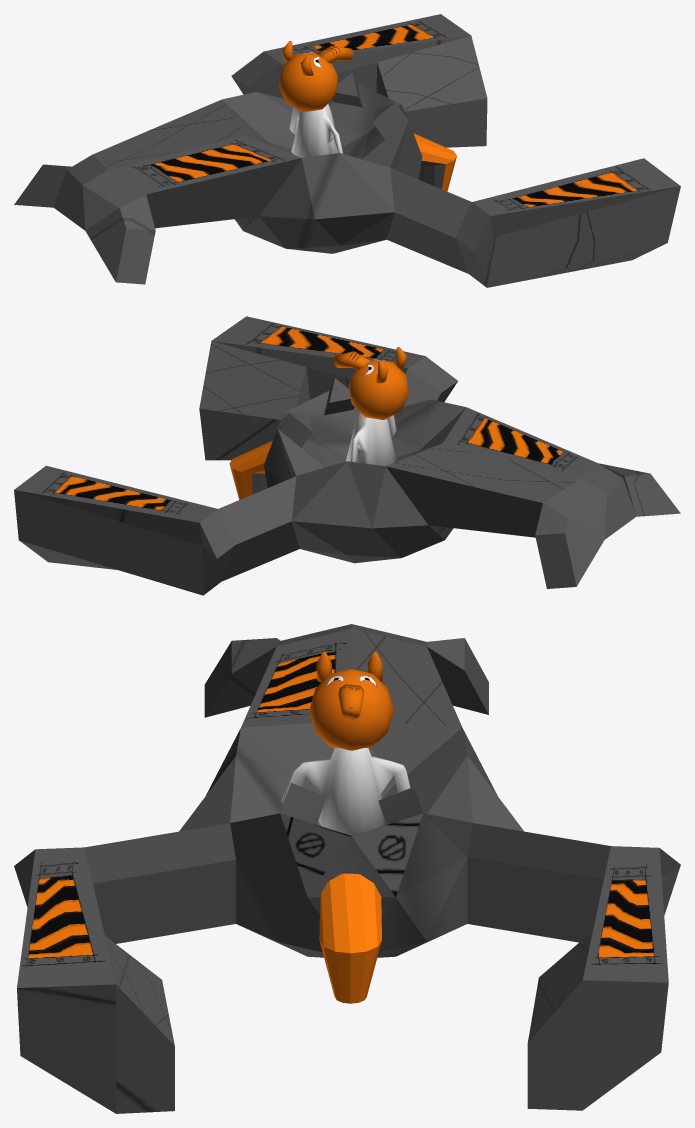
The model's file is tapirschip.fbx.
3 renders of one model, top to bottom at view 1: azimuth 30°, elevation 25°; view 2: azimuth 150°, elevation 25°; view 3: azimuth 270°, elevation 25°, orthographic. The views are drawn at different scales.
Parts seen in each view (by area): view 1: Icosphere, Cylinder.001, Cylinder; view 2: Icosphere, Cylinder.001, Cylinder; view 3: Icosphere, Cylinder, Cylinder.001.
Part boxes in pixels (<box>): Icosphere: <box>14,14,680,287</box>; Cylinder.001: <box>278,41,353,112</box>; Cylinder: <box>289,103,342,157</box>; Icosphere: <box>14,316,680,595</box>; Cylinder.001: <box>334,347,408,419</box>; Cylinder: <box>346,411,396,466</box>; Icosphere: <box>14,624,680,1113</box>; Cylinder: <box>281,747,410,834</box>; Cylinder.001: <box>309,652,394,750</box>.
Bounding box in the file's own units: 2103 × 854 × 1760.
